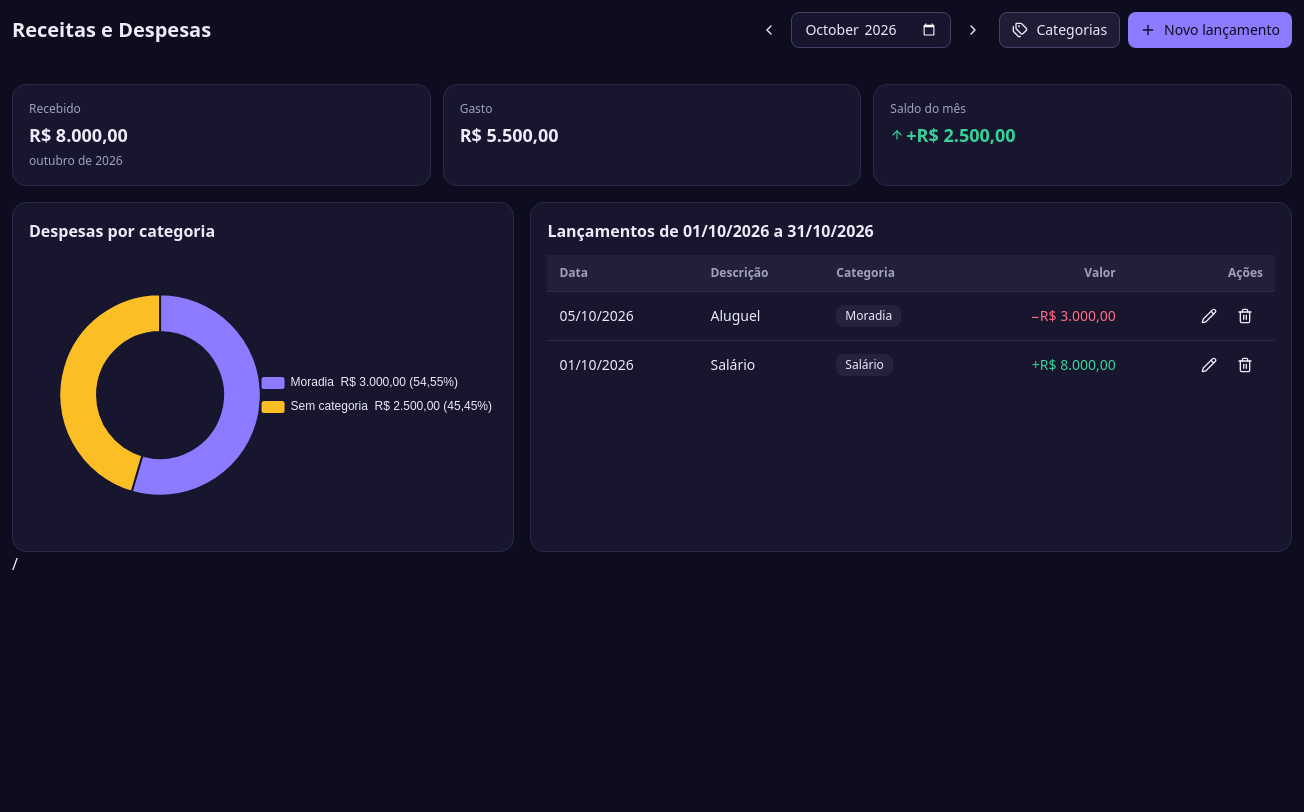
Test: Receitas e Despesas › seletor de mês refaz as consultas
Check: the table named "Lançamentos do mês" is shown, box [547,255,1275,388]
Click the button named "Mês anterior" at point(769, 30), box [751,12,787,48]
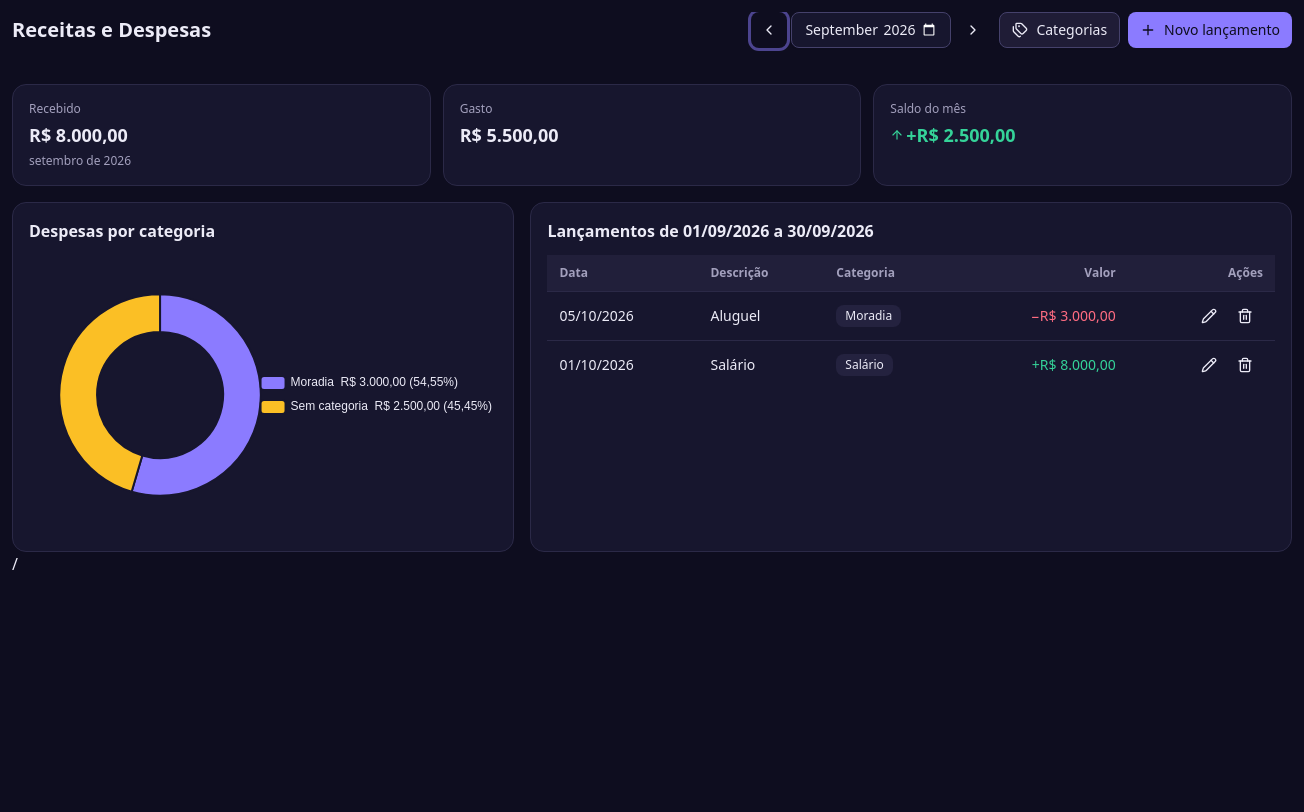
Check: the field named "Mês exibido" holds "2026-09", box [791,12,951,48]
